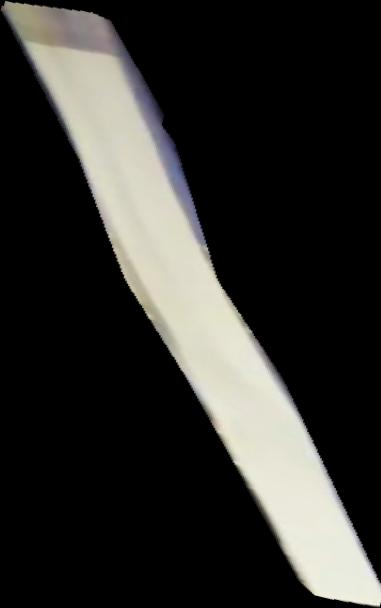backward: (1, 1, 381, 608)
